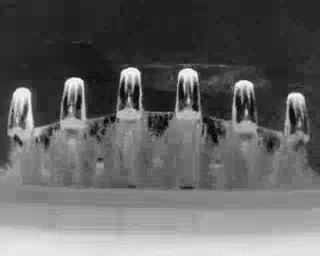claw: (116, 67, 142, 119), (231, 79, 257, 131), (59, 76, 86, 124), (175, 67, 200, 118), (7, 87, 33, 136), (284, 92, 309, 141)
